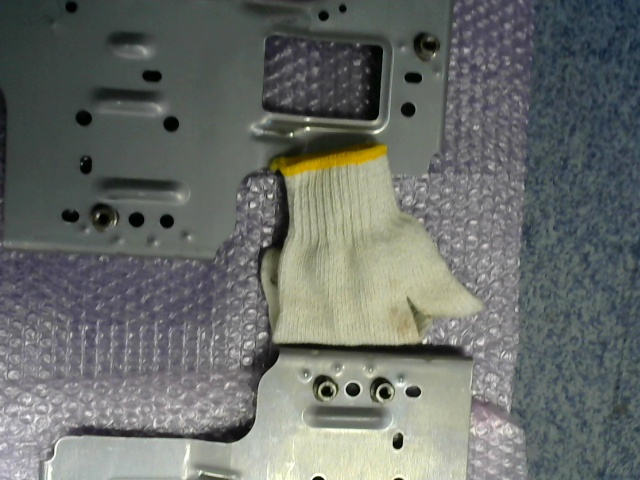dog: (90, 202, 119, 232), (413, 32, 440, 61), (313, 374, 338, 402), (369, 376, 394, 403)
